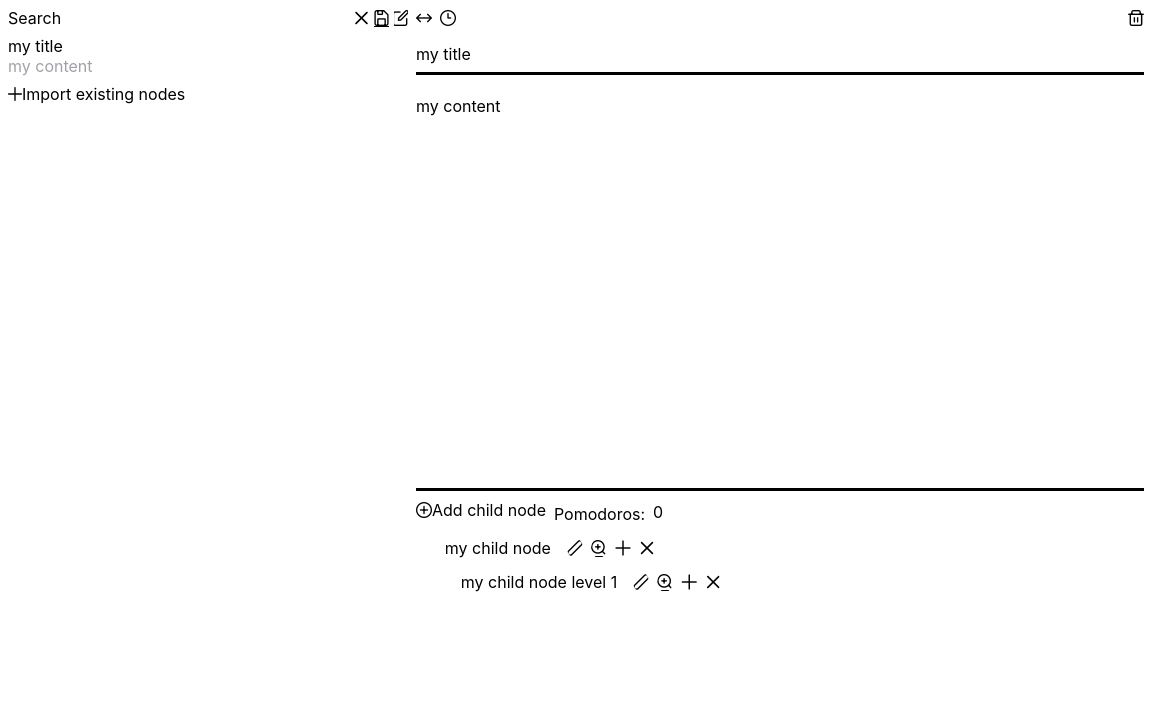
Test case: Solution Navigator › expands the node hidding the side panel
Click the button named "Expand" at x=424, y=18, box [416,8,432,28]
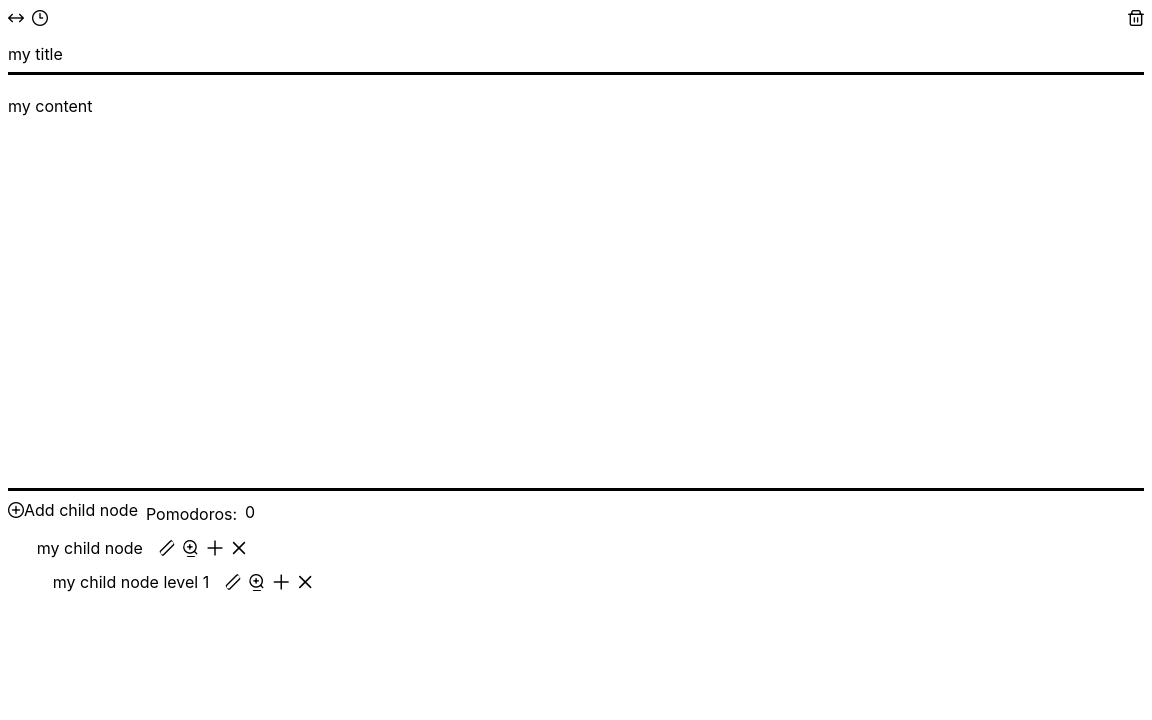
Check: the element with class "side-panel" is gone
